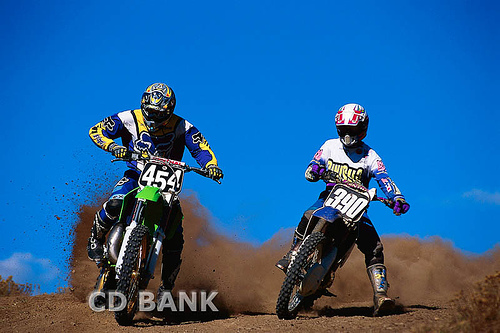helmet: (331, 102, 372, 146), (141, 81, 178, 127)
